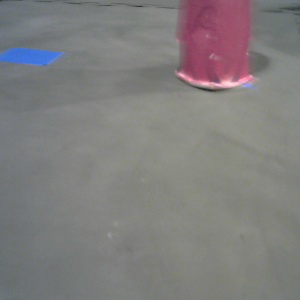Right: (178, 1, 254, 90)
